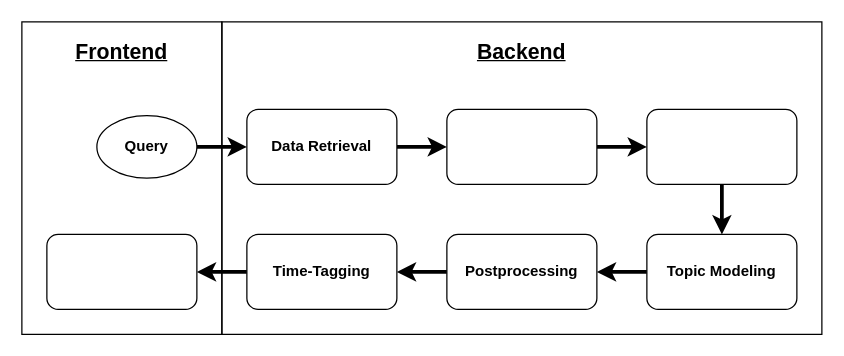
Some shapes in this 844 by 356 pixel diagram are drawn without their labels. The centre of each missing label's shape, as x and y in pixels:
Classification: [721,146]
Preprocessing: [521,146]
Visualization: [121,271]
